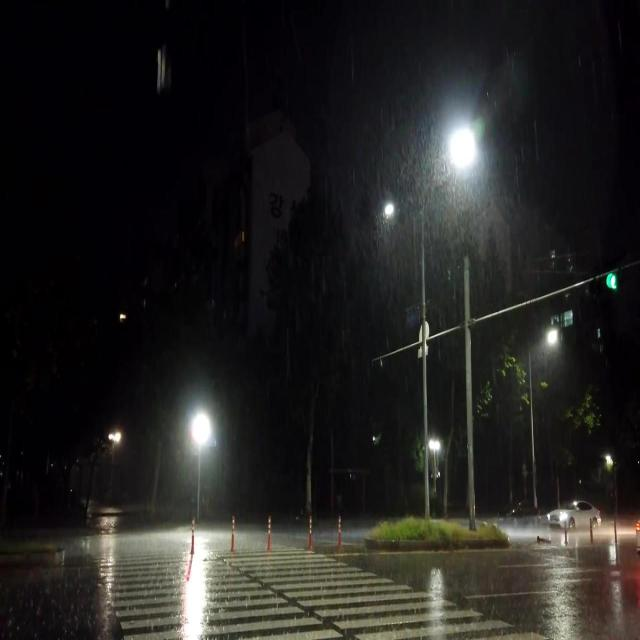Car: (544, 496, 601, 529)
